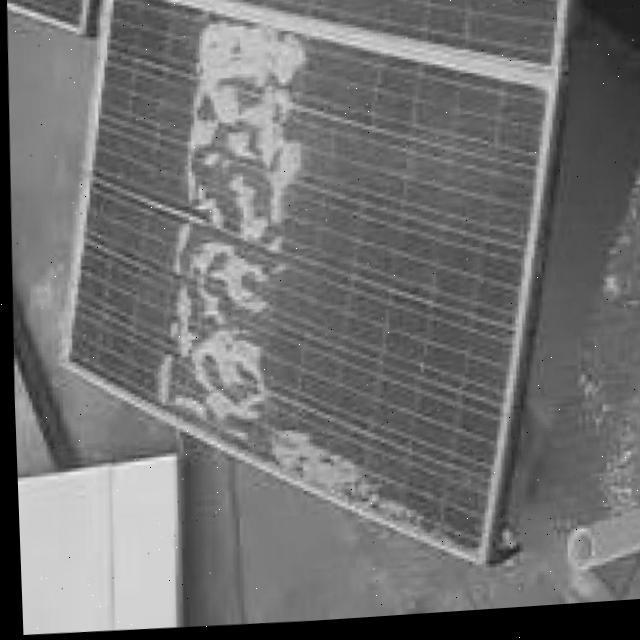Anomaly Solar Panel: (11, 0, 595, 573)
Snow: (145, 22, 312, 444), (254, 425, 429, 545)
